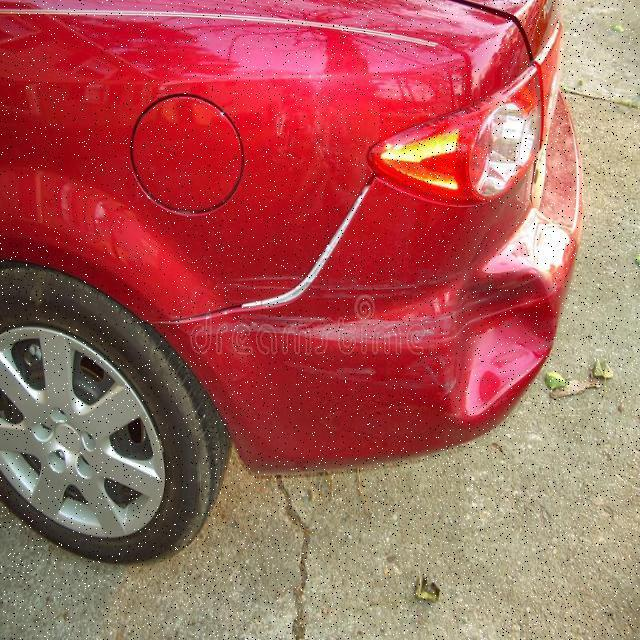rear-bumper-dent: (170, 218, 568, 480)
